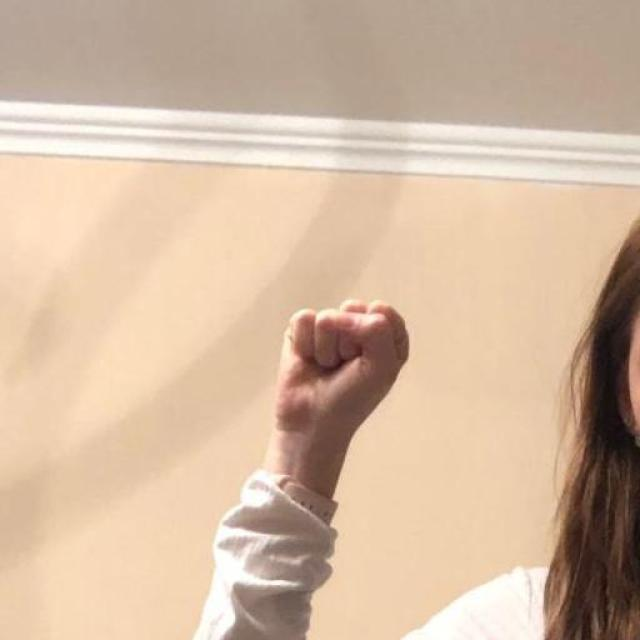hand: (263, 298, 412, 498)
